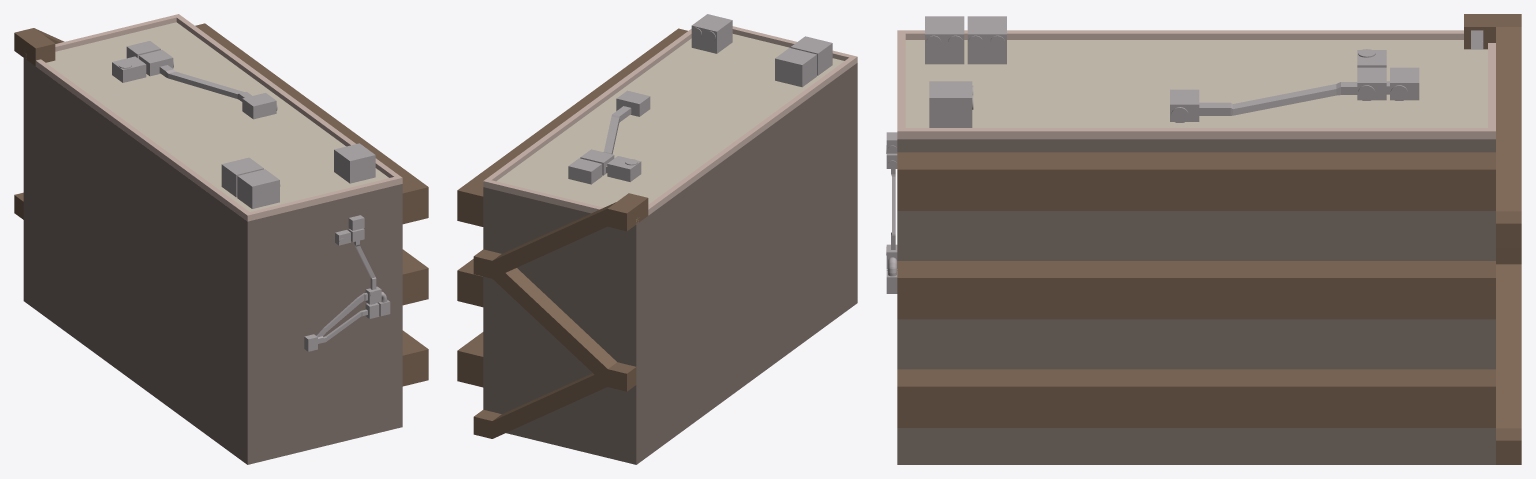
File: Buildings.fbx
3 views of the same model, side by side, from view 1: azimuth 30°, elevation 25°; view 2: azimuth 150°, elevation 25°; view 3: azimuth 270°, elevation 25° (orthographic). The views are drawn at different scales.
Parts seen in each view (by area): view 1: Cube.008; view 2: Cube.008; view 3: Cube.008.
Boxes of the visible parts, x1,y1,x2,y2 form: Cube.008: (14, 14, 428, 464); Cube.008: (457, 14, 857, 464); Cube.008: (886, 14, 1521, 464).
Size of the model in its own units: 468 by 659 by 1062.
